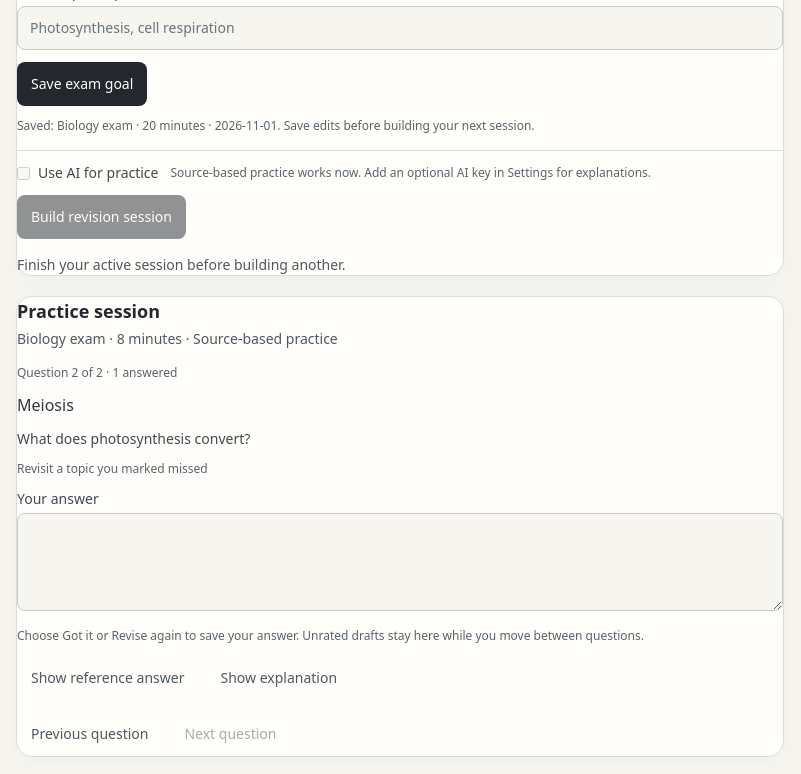
Test: keeps the final question visible when all answers are rated
(page scrolled)
Check: the heading "Meiosis" is shown, box [17, 394, 74, 416]
Click the button "Show reference answer": x=108, y=678 [17, 656, 198, 700]
(page scrolled)
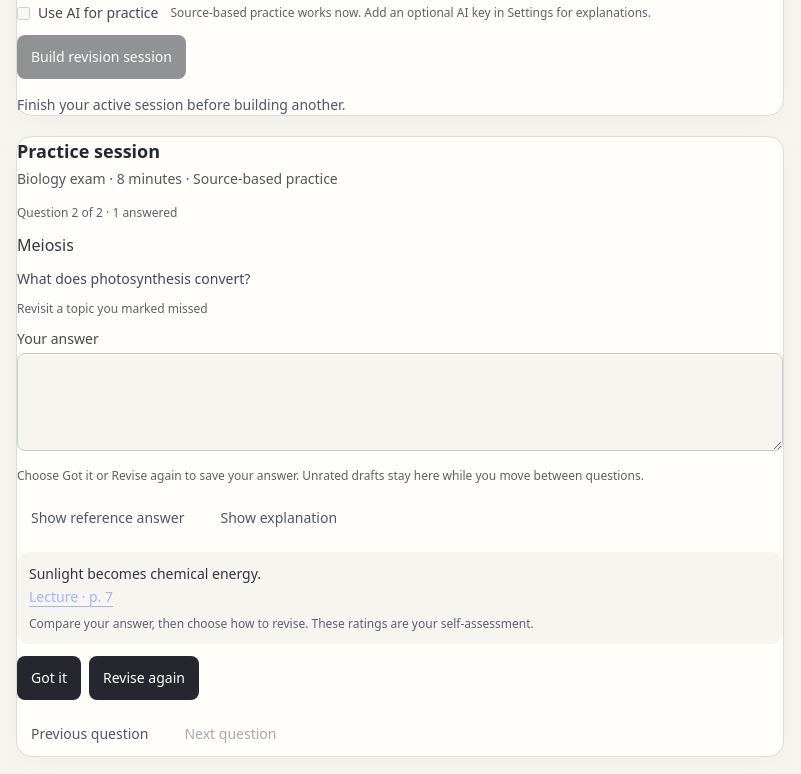
Click the button "Got it": x=49, y=678 [17, 656, 81, 700]
(page scrolled)
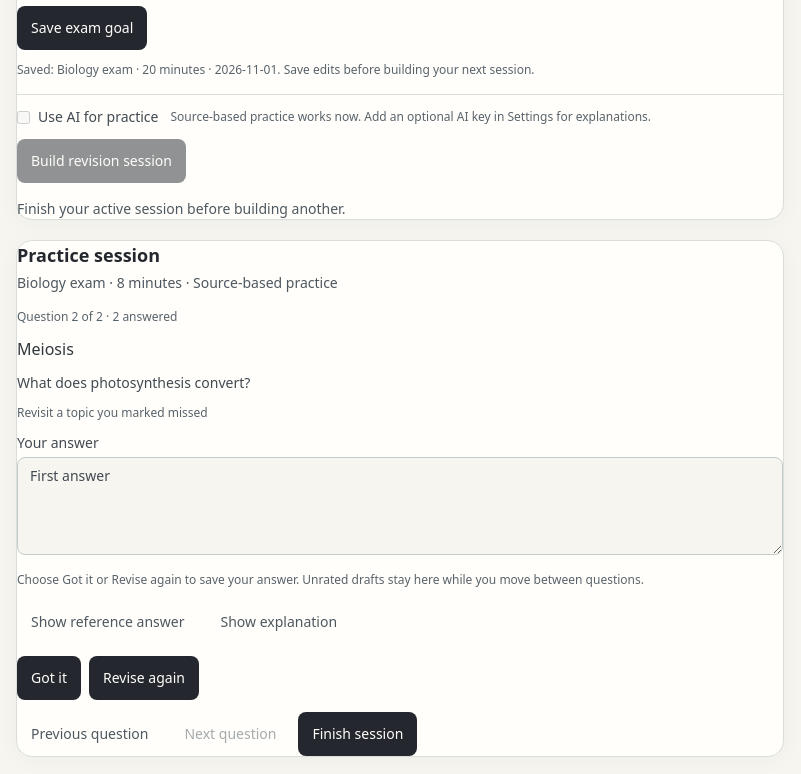
Check: the button "Finish session" is shown, box [298, 712, 417, 756]
Check: the text "Question 2 of 2 · 2 answered" is shown, box [17, 308, 177, 325]
